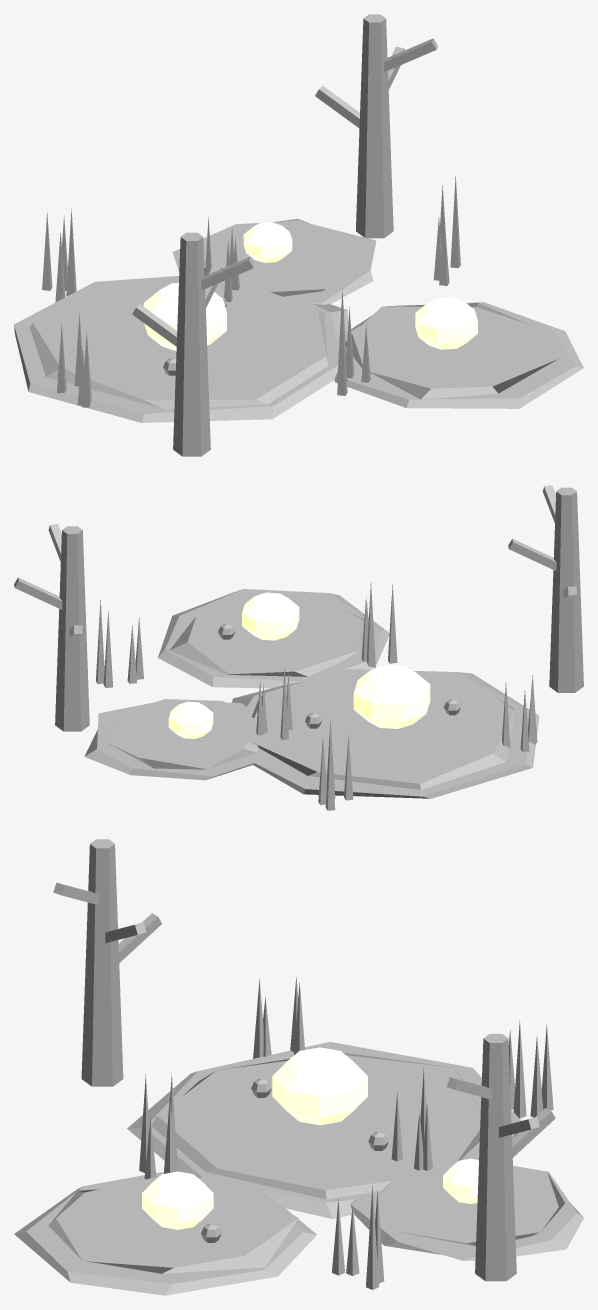
The model's file is d6_slime_bog.gltf.
3 views of the same model, one above another, from view 1: azimuth 30°, elevation 25°; view 2: azimuth 150°, elevation 25°; view 3: azimuth 270°, elevation 25° (orthographic). The views are drawn at different scales.
Parts seen in each view (by area): view 1: pool_0, pool_1, mud_0, dead_trunk_0, dead_trunk_1, pool_2, mud_1, slime_02, slime_01, mud_2, slime_03, dead_branch_0_1 (+4 smaller); view 2: pool_0, pool_1, pool_2, mud_0, dead_trunk_1, dead_trunk_0, mud_1, slime_01, mud_2, slime_02, slime_03, dead_branch_1_0 (+5 smaller); view 3: pool_0, pool_1, dead_trunk_0, dead_trunk_1, mud_1, pool_2, mud_0, slime_01, mud_2, slime_02, slime_03, reed_11 (+5 smaller).
Part boxes in pixels (x1,y1,x2,y2): pool_0: [29, 280, 327, 408]; pool_1: [345, 303, 559, 399]; mud_0: [14, 276, 348, 422]; dead_trunk_0: [173, 232, 210, 456]; dead_trunk_1: [356, 14, 393, 238]; pool_2: [203, 220, 361, 296]; mud_1: [332, 302, 583, 408]; slime_02: [415, 297, 477, 349]; slime_01: [143, 283, 226, 350]; mud_2: [172, 219, 376, 304]; slime_03: [243, 222, 292, 262]; dead_branch_0_1: [201, 256, 255, 290]; pool_0: [244, 670, 514, 789]; pool_1: [169, 591, 376, 676]; pool_2: [105, 699, 258, 769]; mud_0: [232, 669, 539, 798]; dead_trunk_1: [55, 526, 89, 731]; dead_trunk_0: [549, 487, 583, 692]; mud_1: [158, 589, 389, 688]; slime_01: [353, 665, 430, 728]; mud_2: [84, 702, 265, 780]; slime_02: [242, 592, 299, 640]; slime_03: [168, 701, 213, 738]; dead_branch_1_0: [14, 577, 62, 609]; pool_0: [151, 1052, 480, 1199]; pool_1: [48, 1176, 298, 1273]; dead_trunk_0: [81, 839, 123, 1086]; dead_trunk_1: [475, 1034, 516, 1281]; mud_1: [14, 1172, 316, 1295]; pool_2: [369, 1169, 564, 1246]; mud_0: [127, 1042, 521, 1218]; slime_01: [272, 1047, 367, 1125]; mud_2: [350, 1158, 583, 1260]; slime_02: [142, 1171, 213, 1229]; slime_03: [443, 1158, 478, 1203]; reed_11: [366, 1185, 379, 1289].
Size of the model in its own units: 1.44 by 0.62 by 1.36.
